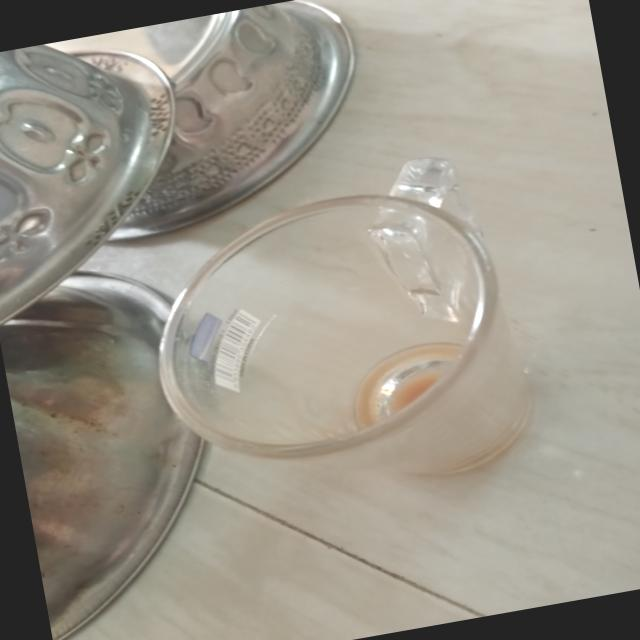glass-VX4N: (125, 140, 542, 532)
